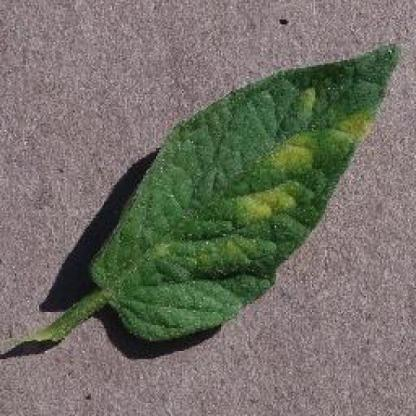Tomato_Leaf_Mold: (109, 44, 401, 336)
